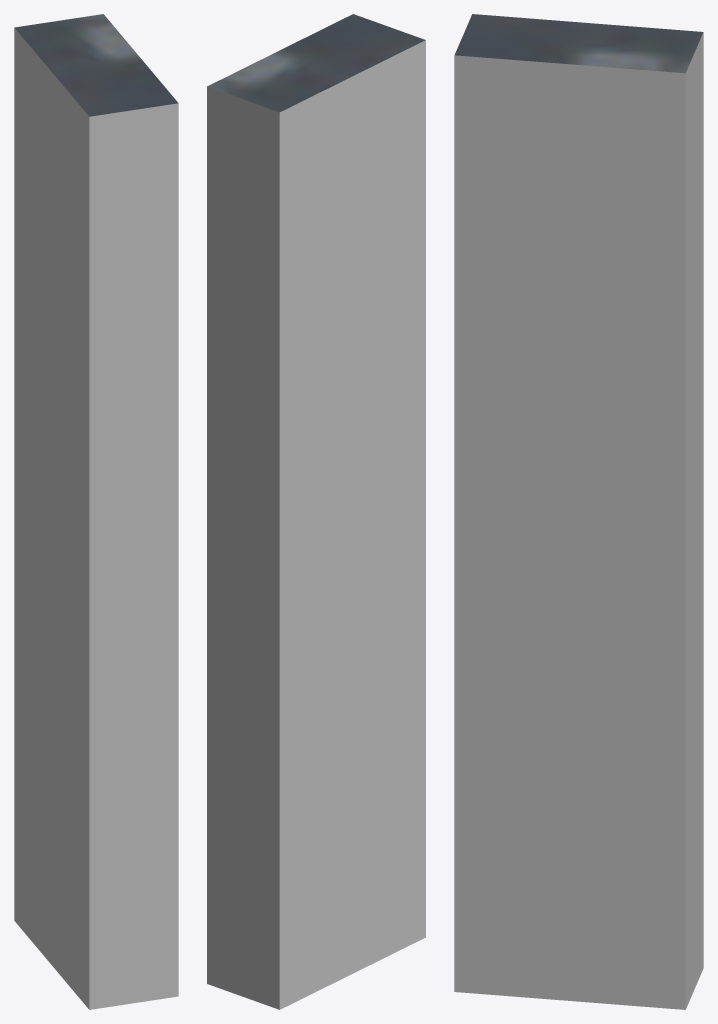
The model's file is DEBW_0010007THXl.gltf.
3 views of the same model, side by side, from view 1: azimuth 30°, elevation 25°; view 2: azimuth 150°, elevation 25°; view 3: azimuth 270°, elevation 25° (orthographic). The views are drawn at different scales.
Parts seen in each view (by area): view 1: Z_UP; view 2: Z_UP; view 3: Z_UP.
Part boxes in pixels (x1,y1,x2,y2): Z_UP: (14,14,178,1009); Z_UP: (207,14,425,1009); Z_UP: (454,14,703,1009).
Bounding box in the file's own units: 2.21 × 16.27 × 3.92.
2 materials, 1 textured.
